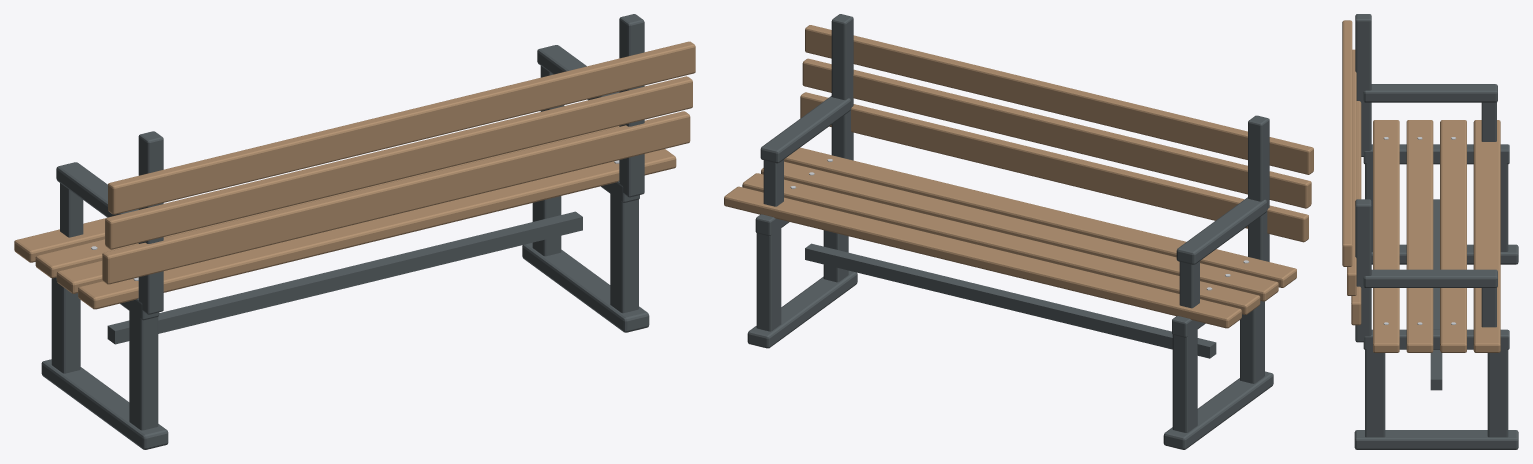
File: bench.glb
3 views of the same model, side by side, from view 1: azimuth 30°, elevation 25°; view 2: azimuth 150°, elevation 25°; view 3: azimuth 270°, elevation 25° (orthographic). The views are drawn at different scales.
Visible parts, largest first — view 1: bench; view 2: bench; view 3: bench.
Part boxes in pixels (x1=…): bench: x1=14, y1=14, x2=695, y2=449; bench: x1=724, y1=14, x2=1313, y2=449; bench: x1=1342, y1=14, x2=1518, y2=449.
Bounding box in the file's own units: 1.82 × 0.9205 × 0.602.
